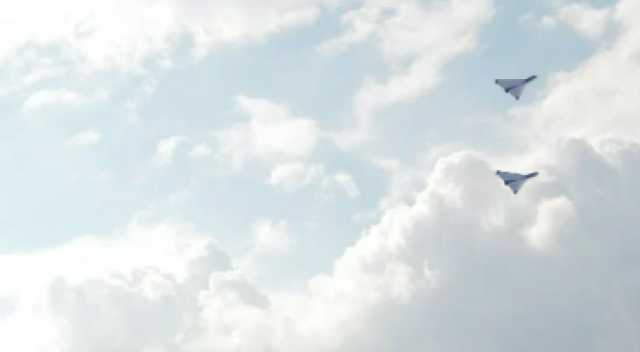military drone: (494, 74, 538, 100), (494, 169, 538, 194)
